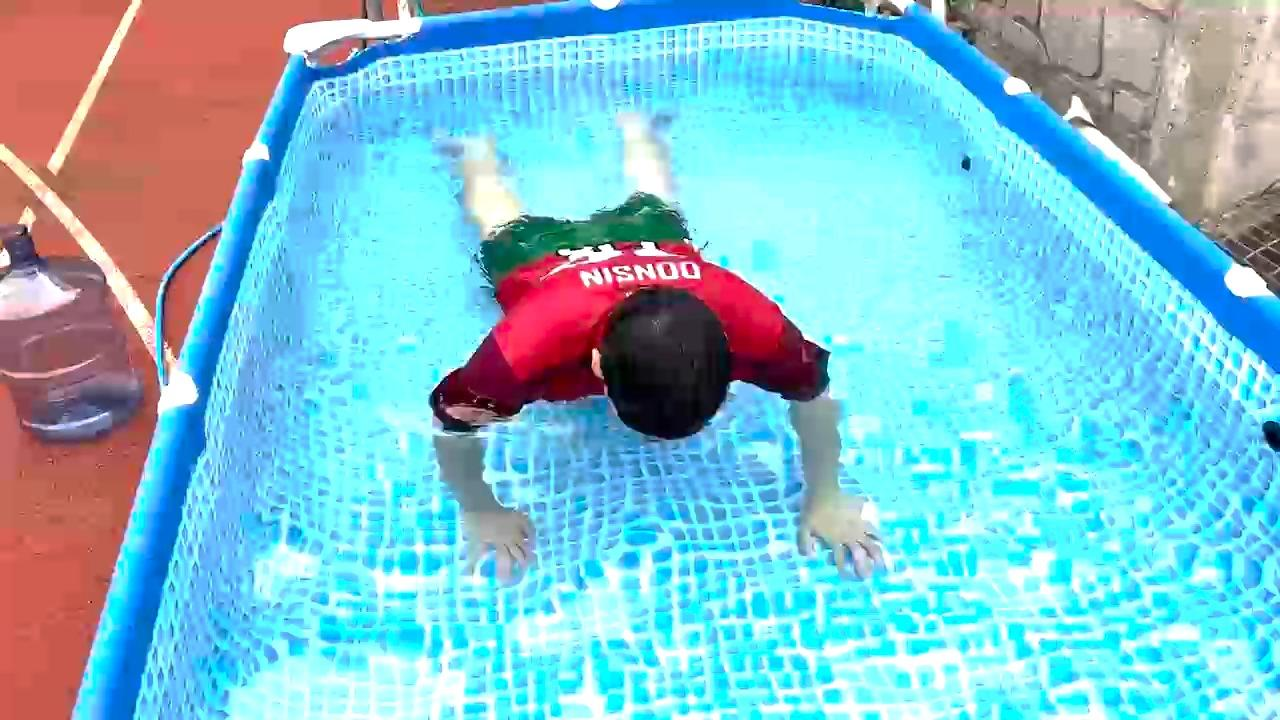Drowning: (386, 90, 904, 595)
